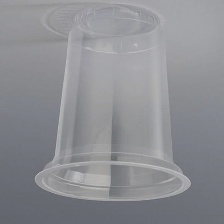glass: (29, 0, 199, 208)
